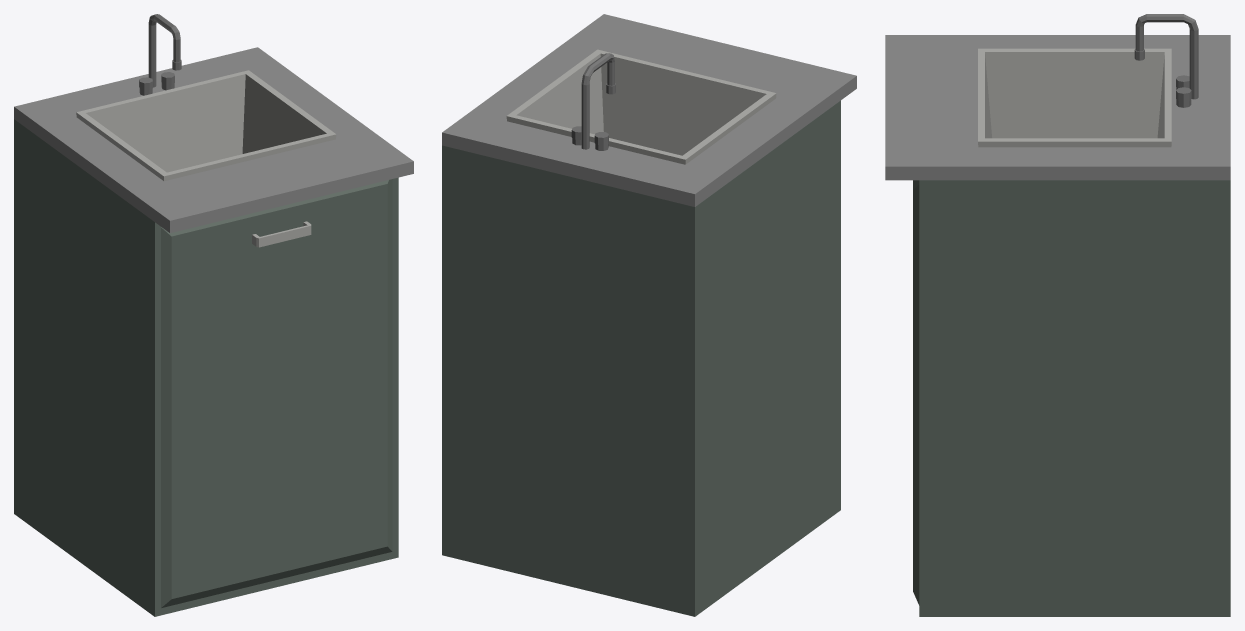
File: home_kitchen_sink.fbx
3 renders of one model, left to right at view 1: azimuth 30°, elevation 25°; view 2: azimuth 150°, elevation 25°; view 3: azimuth 270°, elevation 25°, orthographic. The views are drawn at different scales.
Visible parts, largest first — view 1: home_kitchen_sink_LOD0; view 2: home_kitchen_sink_LOD0; view 3: home_kitchen_sink_LOD0.
Boxes of the visible parts, x1,y1,x2,y2 form: home_kitchen_sink_LOD0: [14, 14, 413, 616]; home_kitchen_sink_LOD0: [442, 14, 856, 616]; home_kitchen_sink_LOD0: [885, 14, 1230, 616].
Size of what is drawn, in the model's own units: 0.499 by 0.95 by 0.5531.
